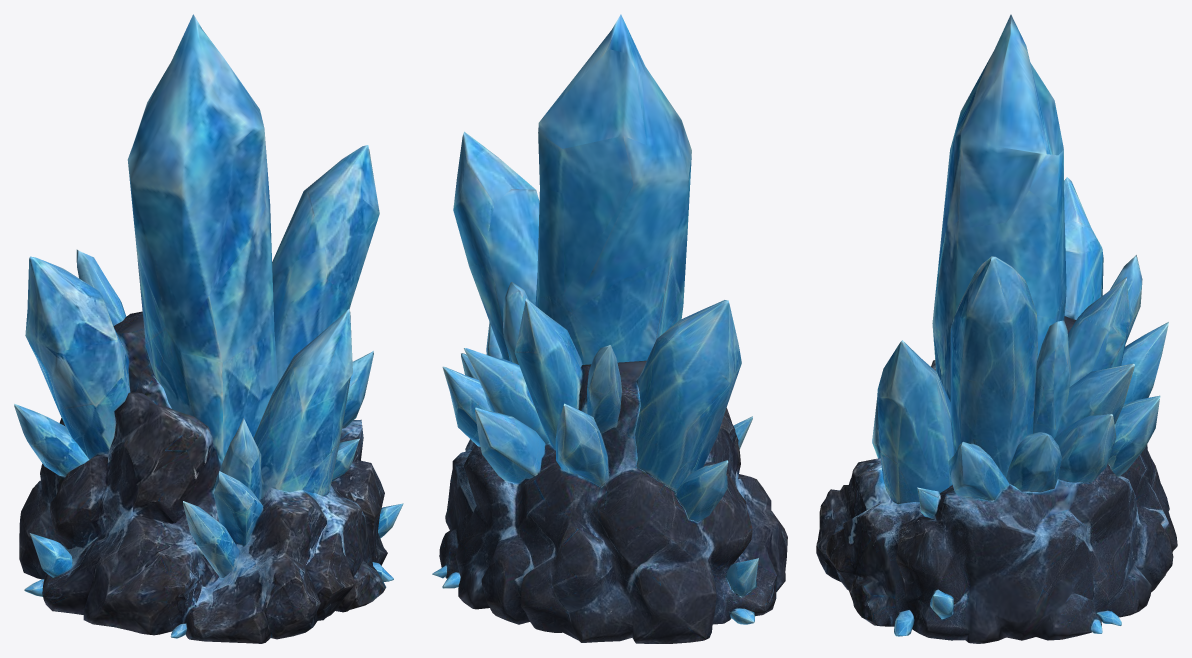
Rendered from crypte_decor_cristaux.glb.
3 renders of one model, left to right at view 1: azimuth 30°, elevation 25°; view 2: azimuth 150°, elevation 25°; view 3: azimuth 270°, elevation 25°, orthographic.
Bounding box in the file's own units: 0.5737 × 0.9517 × 0.562.
Materials: 1 (1 with a texture image).
